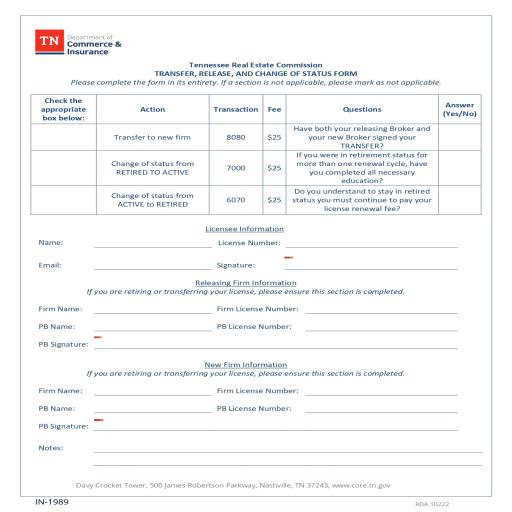Signature: (36, 420, 91, 432), (215, 259, 258, 272), (34, 338, 88, 348)
check_box: (444, 108, 479, 119)
email: (35, 258, 67, 269)
free_text: (215, 385, 300, 398), (214, 322, 294, 334), (216, 404, 294, 416), (216, 303, 300, 314), (216, 236, 281, 248), (35, 403, 79, 416), (35, 320, 79, 332), (36, 303, 82, 314), (36, 385, 83, 395), (33, 236, 69, 248)
